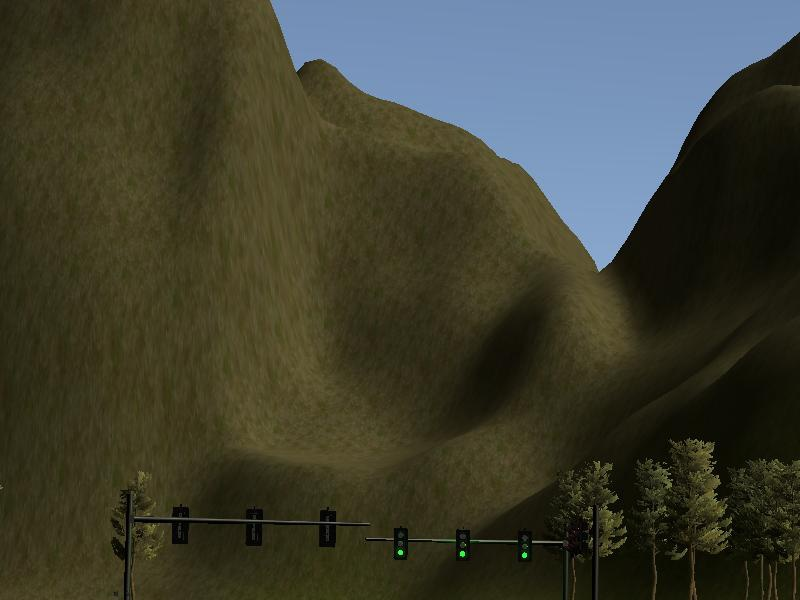Green: (391, 524, 411, 562), (454, 527, 473, 564), (517, 527, 534, 562)
